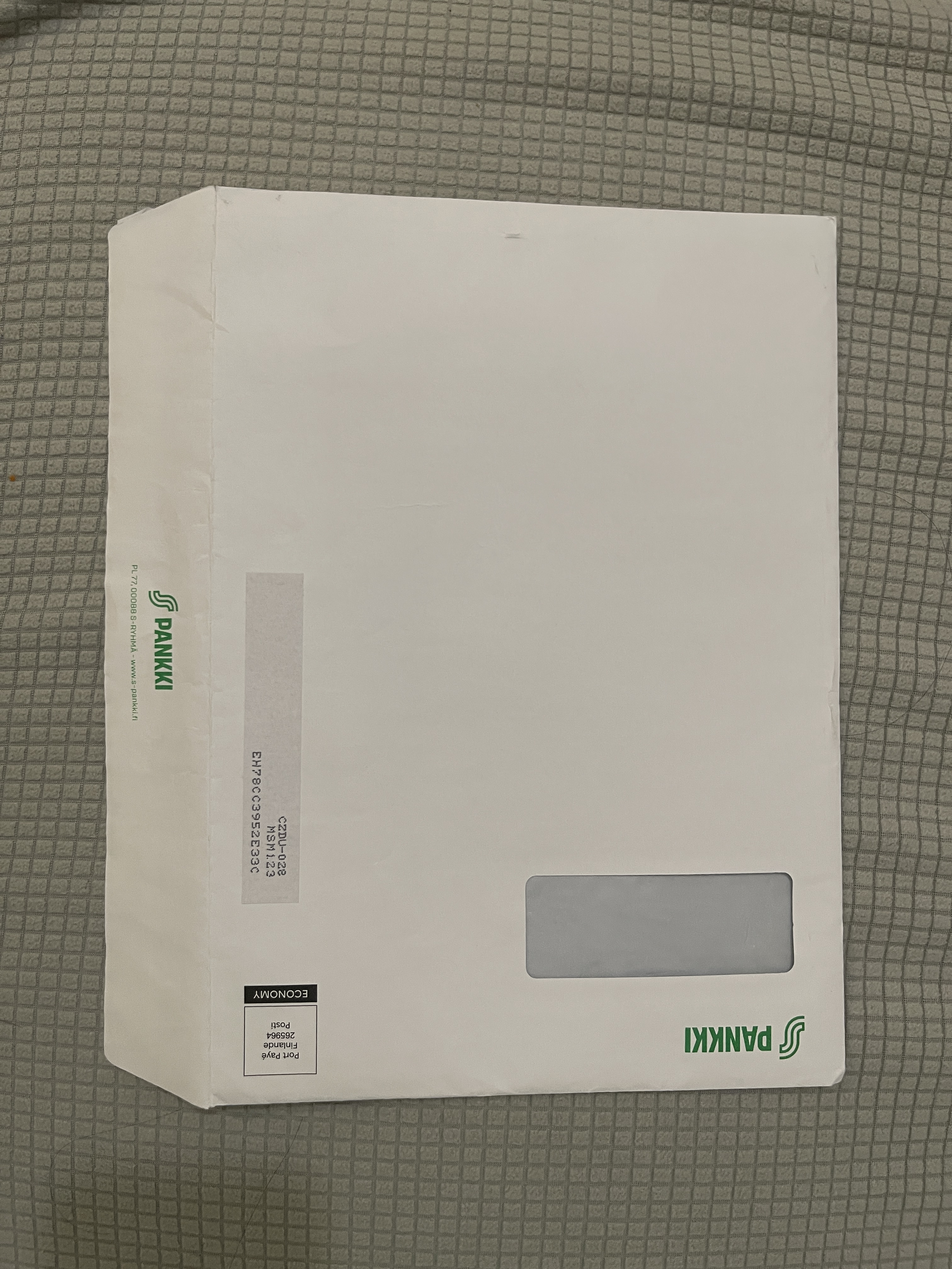paper: (94, 182, 850, 1113)
